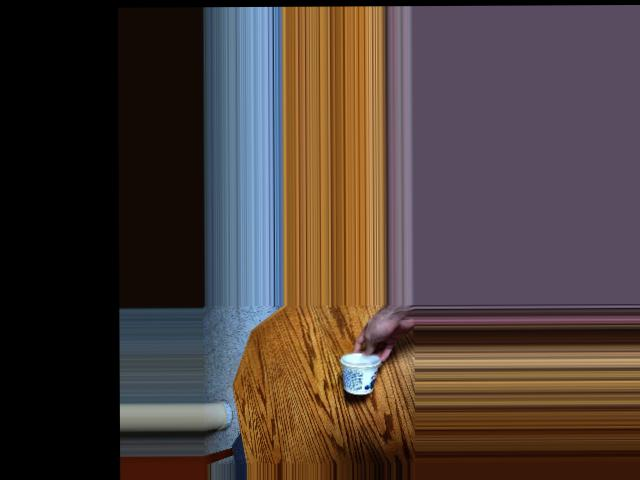cotage: (341, 350, 384, 393)
